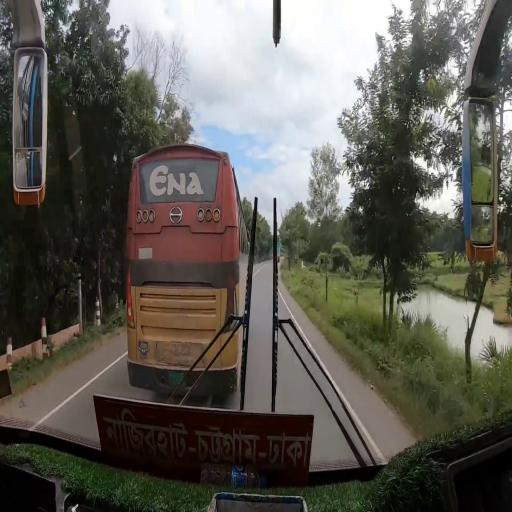bus: (126, 143, 250, 394)
